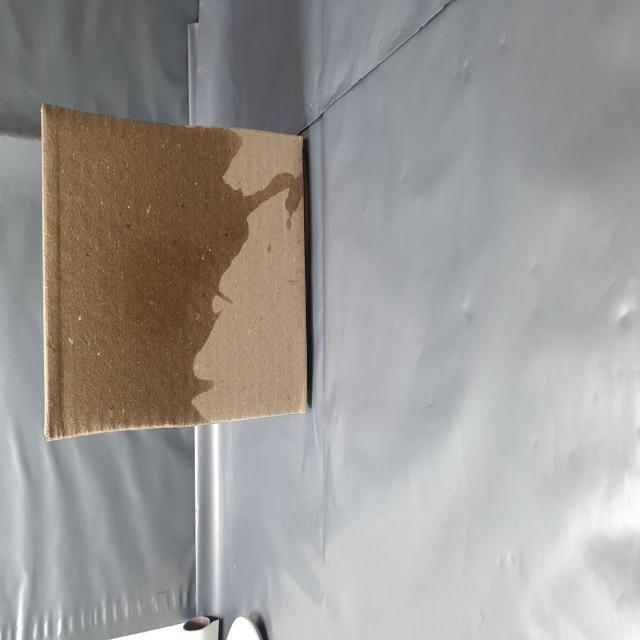wet: (115, 78, 295, 547)
